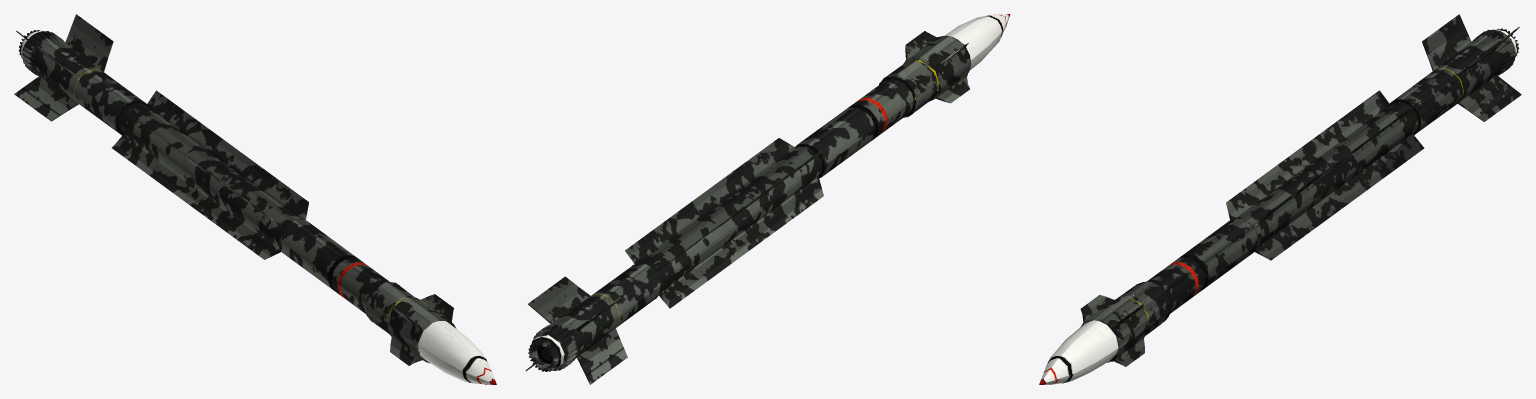
The model's file is missile_original.glb.
3 renders of one model, left to right at view 1: azimuth 30°, elevation 25°; view 2: azimuth 150°, elevation 25°; view 3: azimuth 330°, elevation 25°, orthographic.
Parts seen in each view (by area): view 1: mica-missile; view 2: mica-missile; view 3: mica-missile.
Part boxes in pixels (left/top/right/bottom): mica-missile: left=14, top=14, right=496, bottom=384; mica-missile: left=525, top=14, right=1010, bottom=384; mica-missile: left=1039, top=14, right=1521, bottom=384.
Bounding box in the file's own units: 8.06 × 8.06 × 100.
Materials: 1 (1 with a texture image).
